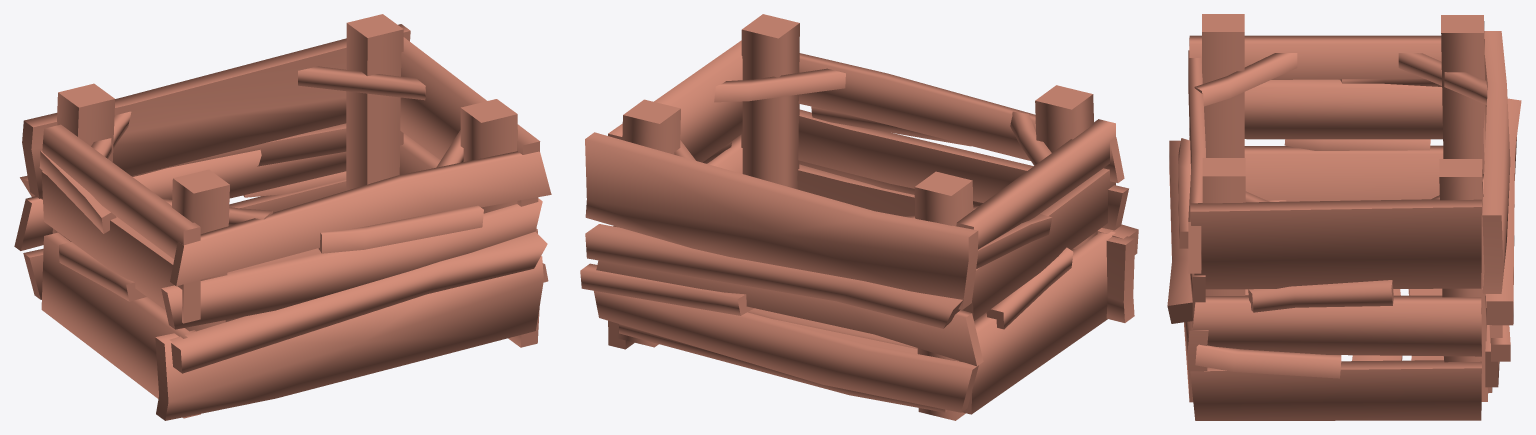
3 views of the same model, side by side, from view 1: azimuth 30°, elevation 25°; view 2: azimuth 150°, elevation 25°; view 3: azimuth 270°, elevation 25° (orthographic). The views are drawn at different scales.
Visible parts, largest first — view 1: Plane.041; view 2: Plane.041; view 3: Plane.041.
Boxes of the visible parts, <box> form: Plane.041: <box>14,14,551,420</box>; Plane.041: <box>580,14,1138,420</box>; Plane.041: <box>1167,14,1521,420</box>.
Bounding box in the file's own units: 1.58 × 0.8898 × 1.21.
